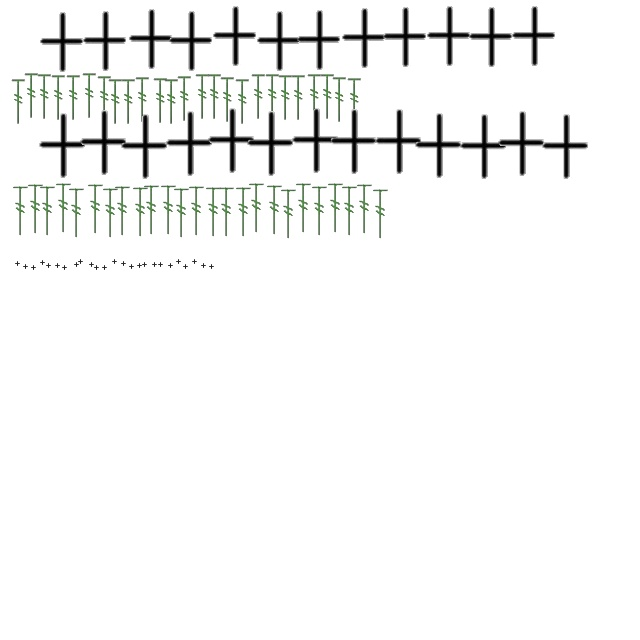double: (36, 113, 88, 179), (118, 114, 170, 180), (244, 111, 296, 177), (372, 109, 424, 175), (412, 113, 464, 179), (78, 110, 128, 176), (164, 111, 214, 177), (206, 108, 256, 174), (290, 108, 340, 174), (328, 109, 378, 175), (458, 114, 508, 180), (496, 111, 546, 177), (540, 114, 590, 180), (37, 12, 85, 74), (210, 6, 258, 68), (294, 10, 342, 72), (339, 8, 387, 70), (424, 6, 472, 68), (509, 6, 557, 68), (80, 12, 128, 72), (126, 10, 174, 70), (166, 12, 214, 72), (254, 12, 302, 72), (380, 8, 428, 68), (466, 8, 514, 68), (40, 260, 46, 266), (74, 262, 80, 268), (142, 262, 148, 268), (152, 262, 158, 268), (158, 262, 164, 268), (24, 264, 28, 270), (46, 264, 52, 268), (62, 266, 68, 270), (78, 260, 84, 264), (90, 262, 94, 268), (94, 266, 100, 270), (102, 266, 108, 270), (112, 260, 118, 264), (130, 264, 134, 270), (168, 264, 174, 268), (176, 260, 182, 264), (184, 264, 188, 270), (192, 260, 198, 264), (210, 264, 214, 270), (16, 262, 20, 266), (32, 266, 36, 270), (56, 264, 60, 268), (122, 262, 126, 266), (138, 264, 142, 268), (202, 264, 206, 268)
fan: (26, 182, 46, 236), (38, 184, 58, 238), (54, 181, 74, 235), (86, 182, 106, 236), (142, 183, 162, 237), (172, 186, 192, 240), (204, 185, 224, 239), (234, 185, 254, 239), (294, 181, 314, 235), (310, 184, 330, 238), (326, 181, 346, 235), (340, 184, 360, 238), (12, 184, 30, 238), (68, 186, 86, 240), (102, 186, 120, 240), (114, 184, 132, 238), (132, 185, 150, 239), (160, 183, 178, 237), (188, 184, 206, 238), (218, 185, 236, 239), (248, 181, 266, 235), (266, 183, 284, 237), (280, 187, 298, 241), (356, 182, 374, 236), (372, 187, 390, 241), (10, 78, 28, 126), (50, 74, 68, 122), (120, 78, 138, 126), (134, 76, 152, 124), (234, 78, 252, 126), (290, 74, 308, 122), (36, 74, 54, 120), (96, 76, 114, 122), (152, 78, 170, 124), (176, 76, 194, 122), (194, 74, 212, 120), (206, 74, 224, 120), (250, 74, 268, 120), (264, 74, 282, 120), (306, 74, 324, 120), (346, 78, 364, 124), (24, 72, 40, 120), (66, 74, 82, 122), (82, 72, 98, 120), (108, 78, 124, 126), (164, 78, 180, 126), (220, 76, 236, 124), (278, 74, 294, 122), (332, 76, 348, 124), (320, 74, 336, 120)
